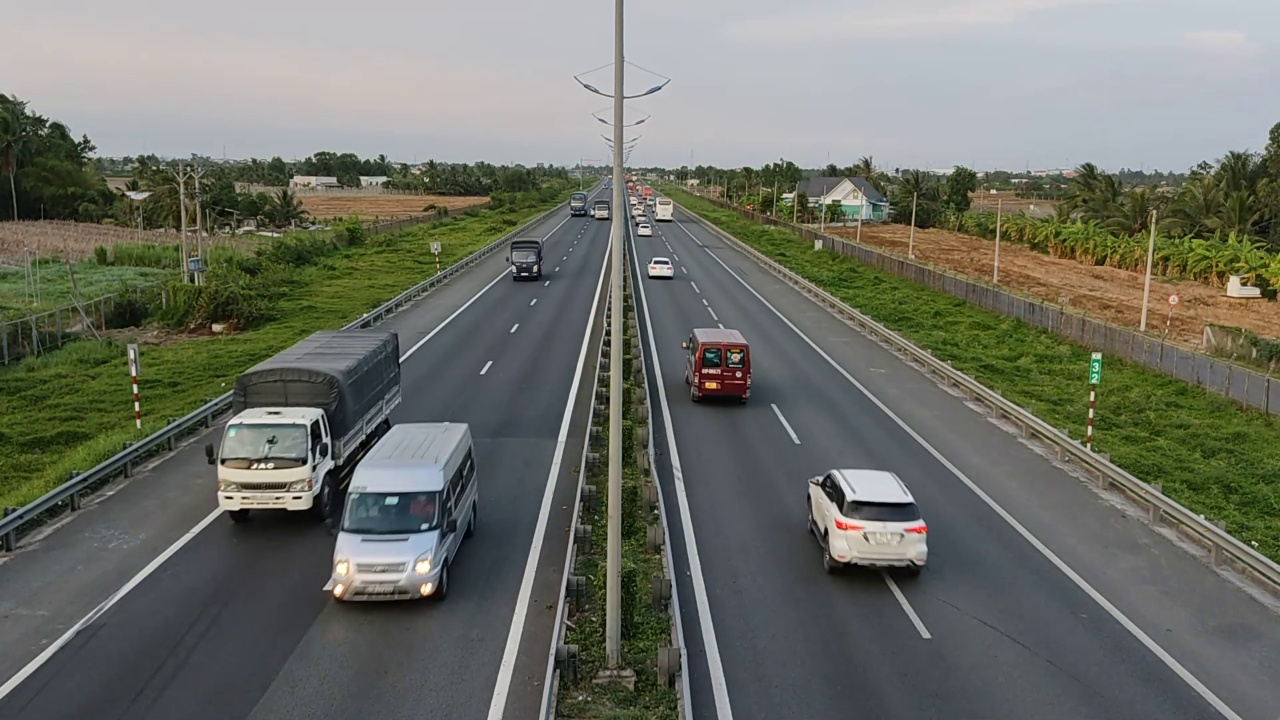car: (321, 417, 481, 605), (806, 468, 929, 574), (678, 325, 755, 411), (647, 256, 675, 279)
truck: (207, 327, 403, 526), (507, 237, 545, 281)
